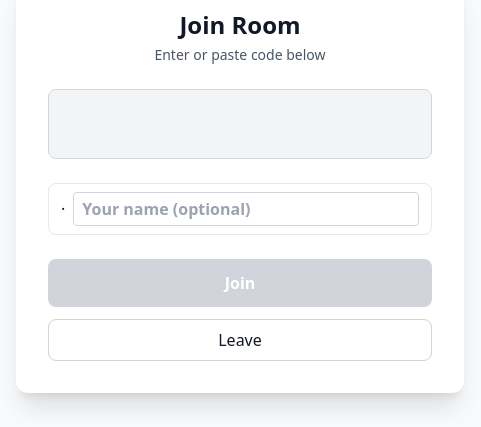
the Join Room card › says Join and refuses to submit until a code is entered
The image size is (481, 427).
Check: the button "Join" is disabled, box [48,259,432,307]
Type "ABC123" into the field with test id "room-code".
click(240, 124); type("ABC123")  # box [48,89,432,159]
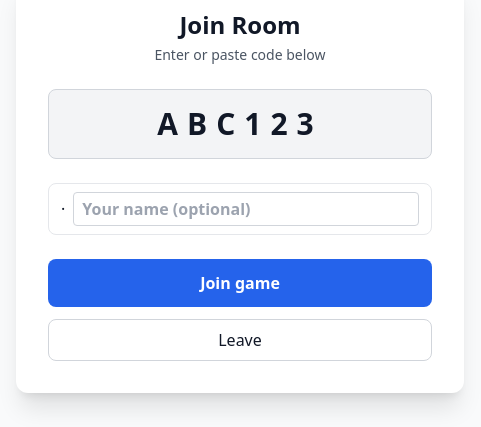
Check: the button "Join game" is enabled, box [48,259,432,307]
